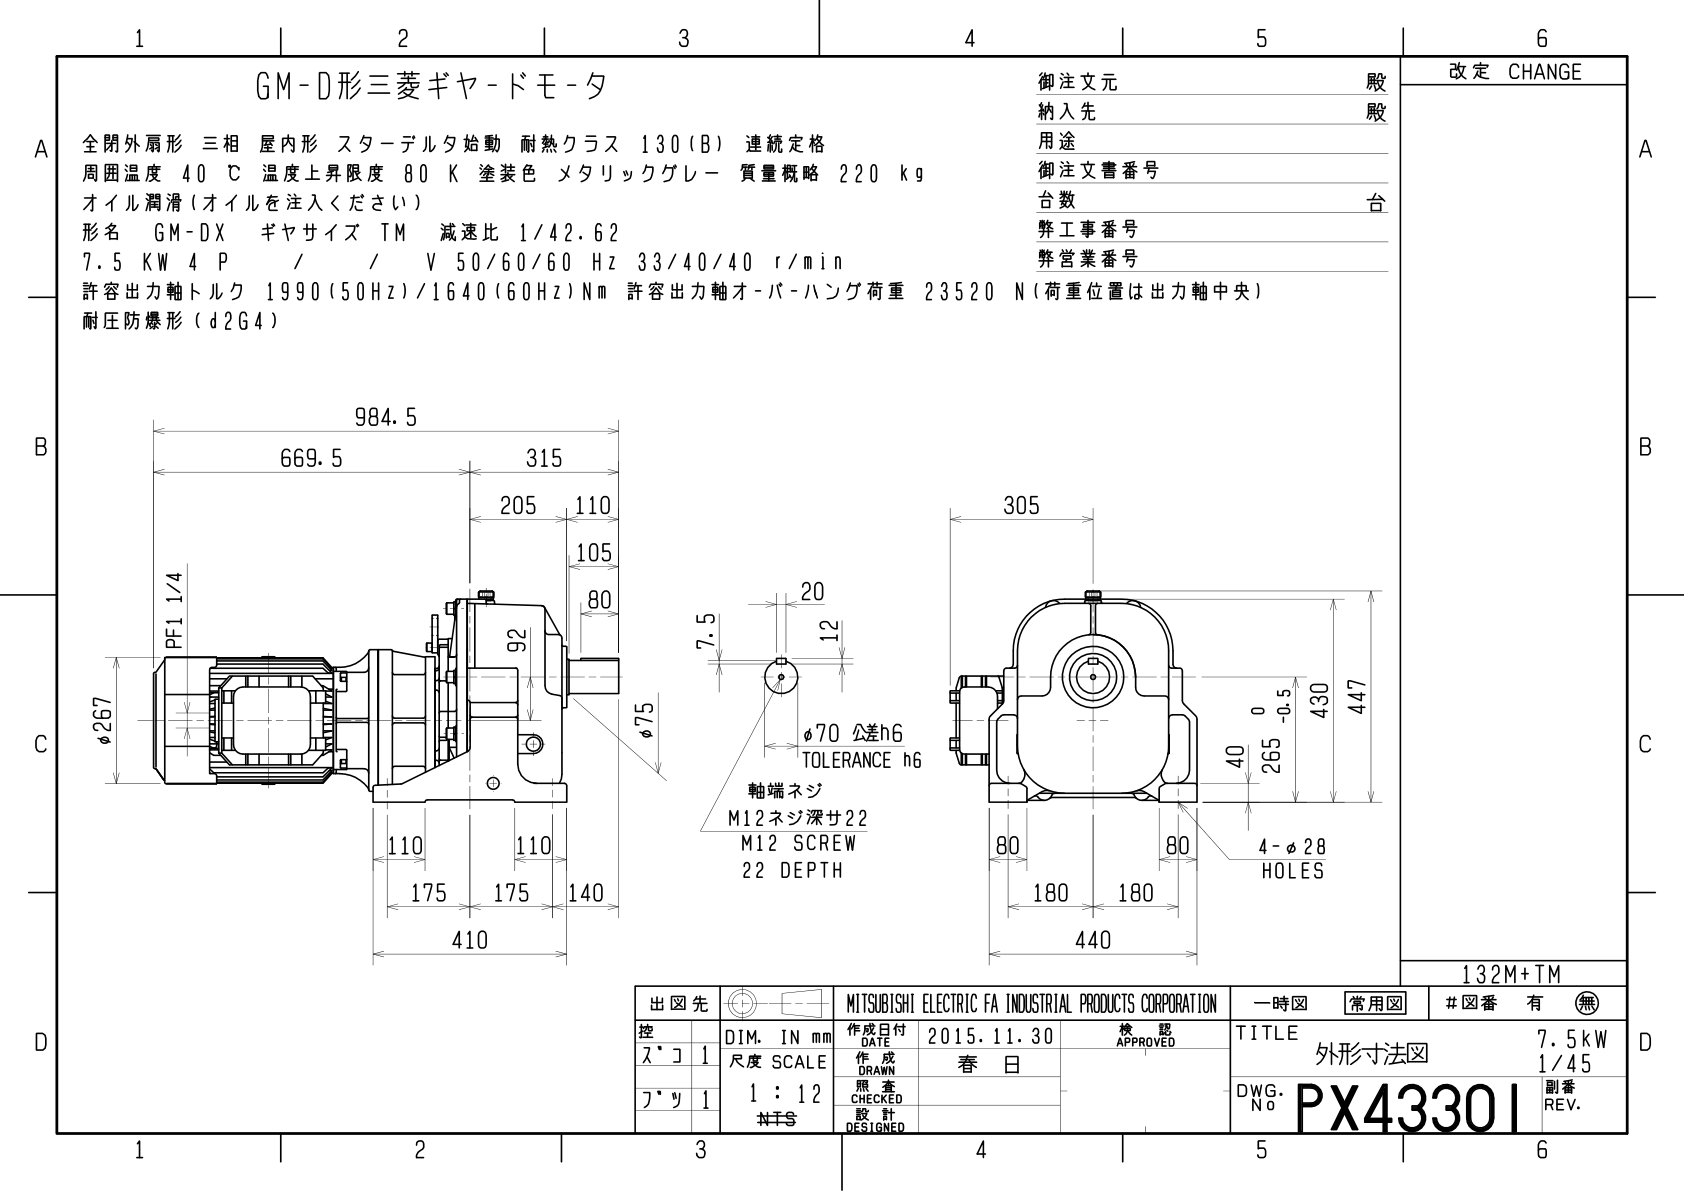GM_D_耐圧屋内_三相_脚: (73, 371, 1393, 973)
